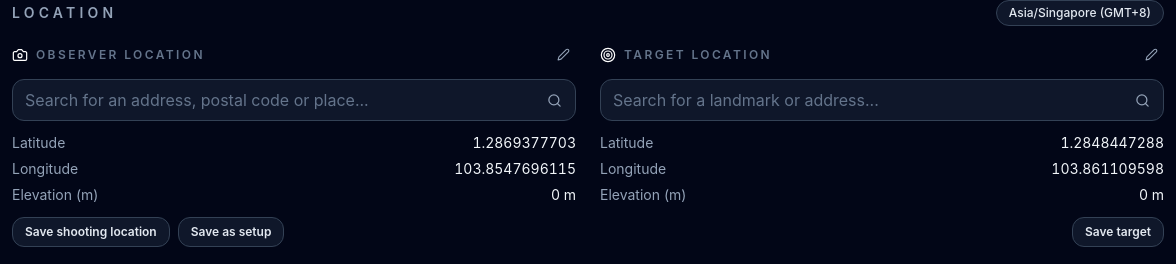
Test case: LocationControls › renders a Save target button under the target panel and saves the target
Click the button with test id "save-target-button" at (1118, 232), box [1072, 217, 1164, 247]
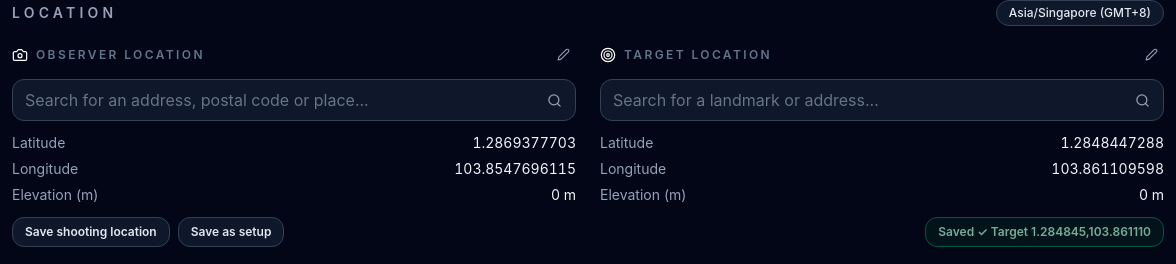
Expected: the button with test id "saved-target-button" is shown, [925, 217, 1164, 247]
